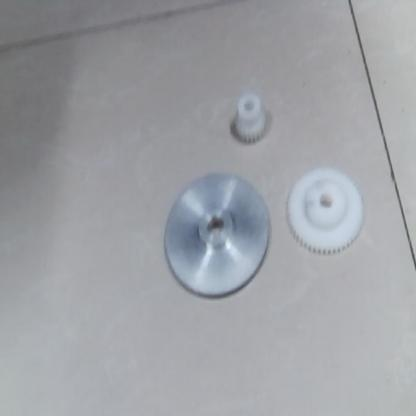FOD: (158, 164, 270, 307), (286, 166, 369, 254), (226, 89, 271, 148)
